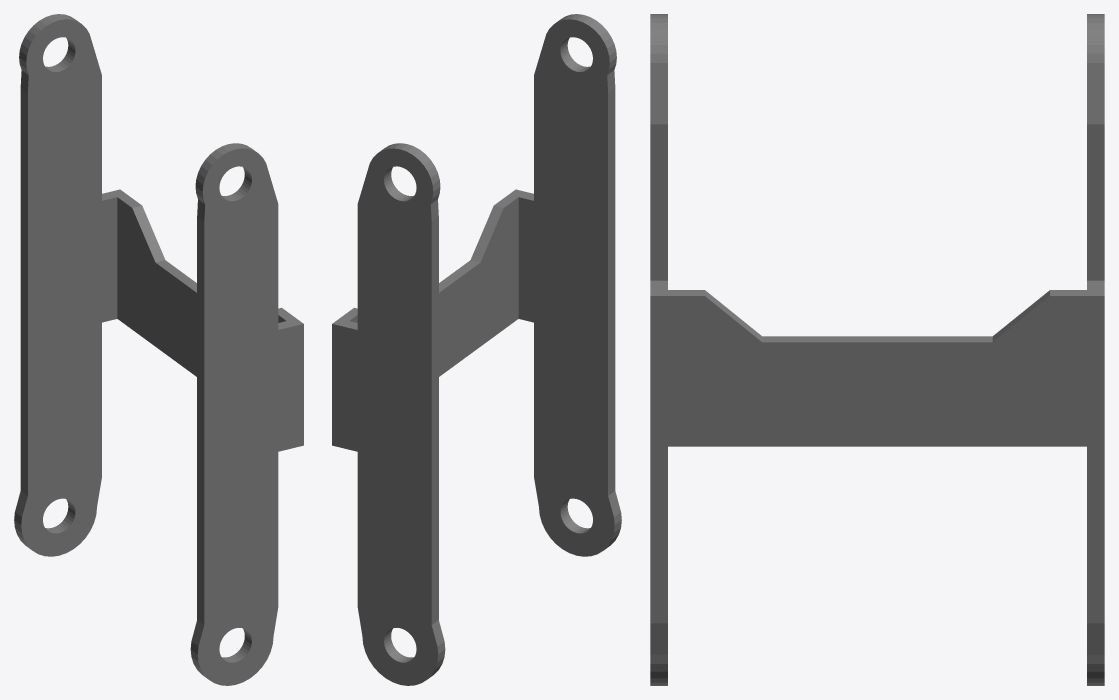
Rendered from link_fwd.dae.
3 views of the same model, side by side, from view 1: azimuth 30°, elevation 25°; view 2: azimuth 150°, elevation 25°; view 3: azimuth 270°, elevation 25° (orthographic). The views are drawn at different scales.
Visible parts, largest first — view 1: 立方体; view 2: 立方体; view 3: 立方体.
Part boxes in pixels (x1,y1,x2,y2): 立方体: (14,14,303,685); 立方体: (332,14,621,685); 立方体: (650,14,1104,685).
Bounding box in the file's own units: 0.0125 × 0.0375 × 0.0604.
1 material, 1 textured.
